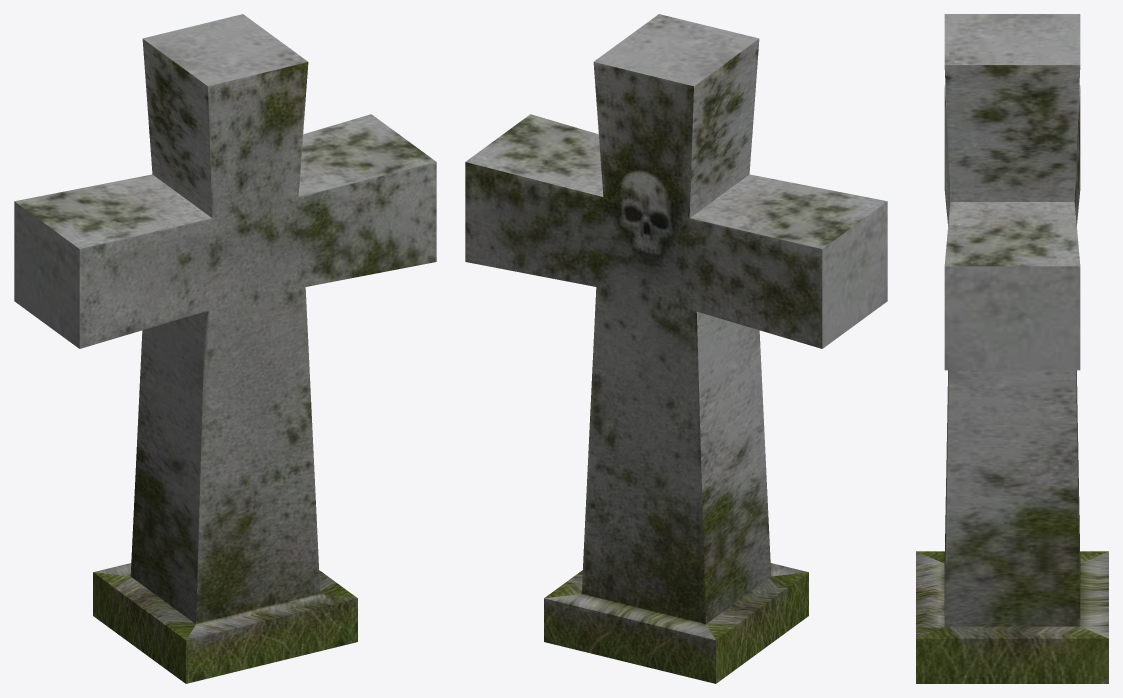
File: grave-2.fbx
The picture shows the model from 3 angles, left to right: view 1: azimuth 30°, elevation 25°; view 2: azimuth 150°, elevation 25°; view 3: azimuth 270°, elevation 25°; orthographic projection. The views are drawn at different scales.
Parts seen in each view (by area): view 1: Cube; view 2: Cube; view 3: Cube.
Boxes of the visible parts, left/top/right/bottom form: Cube: left=14, top=14, right=436, bottom=683; Cube: left=465, top=14, right=887, bottom=683; Cube: left=916, top=14, right=1108, bottom=683.
Size of the model in its own units: 150 by 233 by 67.7.
1 material, 1 textured.
